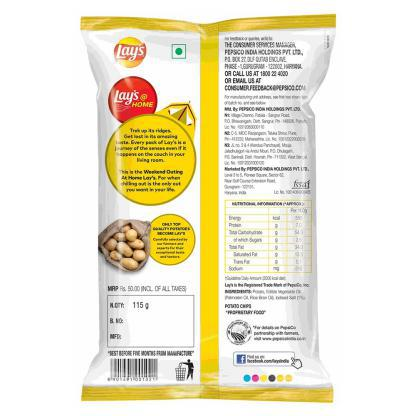classicsalted: (79, 13, 336, 403)
